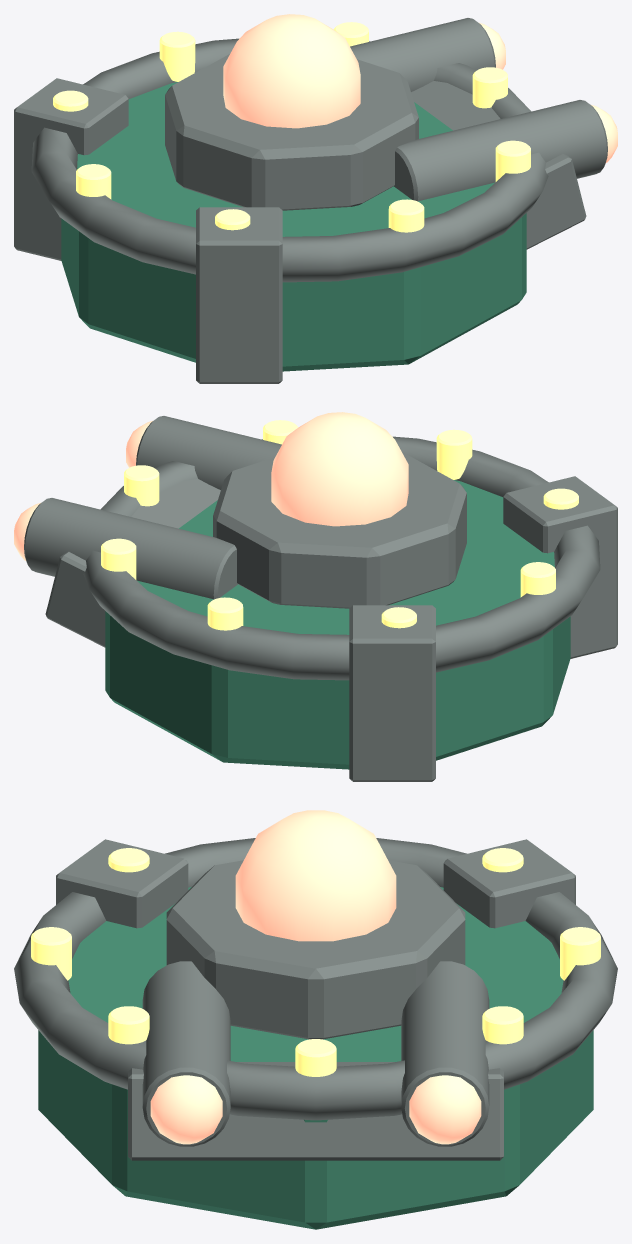
The model's file is enemy_boss.glb.
The picture shows the model from 3 angles, top to bottom: view 1: azimuth 30°, elevation 25°; view 2: azimuth 150°, elevation 25°; view 3: azimuth 270°, elevation 25°; orthographic projection. The views are drawn at different scales.
Parts seen in each view (by area): view 1: Cylinder, Torus, Cylinder.001, Cube.001, Sphere, Cylinder.002, Cube.002, Cube, Cylinder.003, Cylinder.006, Cylinder.004, Cylinder.011 (+6 smaller); view 2: Cylinder, Torus, Cylinder.001, Cube.002, Sphere, Cylinder.003, Cube.001, Cube, Cylinder.002, Cylinder.010, Cylinder.004, Cylinder.005 (+6 smaller); view 3: Cylinder, Torus, Cylinder.001, Sphere, Cube, Cylinder.002, Cylinder.003, Cube.001, Cube.002, Sphere.001, Sphere.002, Cylinder.006 (+6 smaller).
Part boxes in pixels (x1,y1,x2,y2): Cylinder: (61, 82, 526, 371); Torus: (31, 38, 548, 282); Cylinder.001: (165, 54, 418, 210); Cube.001: (196, 207, 282, 383); Sphere: (223, 14, 360, 128); Cylinder.002: (394, 100, 607, 201); Cube.002: (14, 78, 128, 260); Cube: (411, 81, 586, 249); Cylinder.003: (350, 18, 495, 91); Cylinder.006: (159, 31, 195, 81); Cylinder.004: (472, 67, 507, 108); Cylinder.011: (495, 140, 530, 181); Cylinder: (105, 480, 570, 769); Torus: (83, 436, 600, 680); Cylinder.001: (213, 452, 466, 608); Cube.002: (349, 605, 435, 781); Sphere: (271, 412, 408, 526); Cylinder.003: (24, 498, 237, 599); Cube.001: (503, 476, 617, 658); Cube: (45, 479, 220, 647); Cylinder.002: (136, 416, 281, 489); Cylinder.010: (436, 429, 472, 479); Cylinder.004: (124, 465, 159, 506); Cylinder.005: (101, 538, 136, 579); Cylinder: (38, 887, 593, 1229); Torus: (14, 838, 617, 1120); Cylinder.001: (166, 860, 465, 1039); Sphere: (235, 810, 396, 941); Cube: (128, 1062, 503, 1160); Cylinder.002: (142, 961, 230, 1146); Cylinder.003: (401, 961, 489, 1146); Cube.001: (56, 839, 188, 928); Cube.002: (443, 839, 575, 928); Sphere.001: (150, 1075, 222, 1144); Sphere.002: (409, 1075, 481, 1144); Cylinder.006: (560, 927, 600, 980).
Size of the model in its own units: 2.22 by 1.12 by 2.06.
